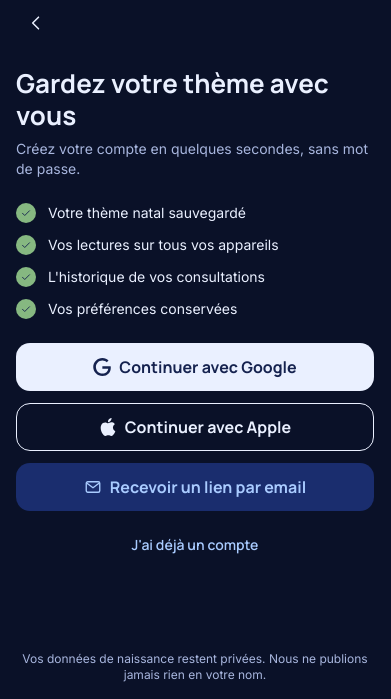
Test: AuthFlow › starts the OAuth flow with the current mode and keeps the button loading
Click the button "Continuer avec Google": click(195, 367) [16,343,374,391]
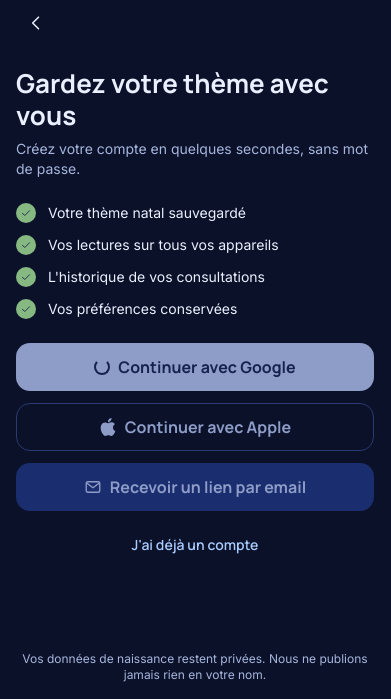
Check: the button "Continuer avec Apple" is disabled, box [16,403,374,451]
